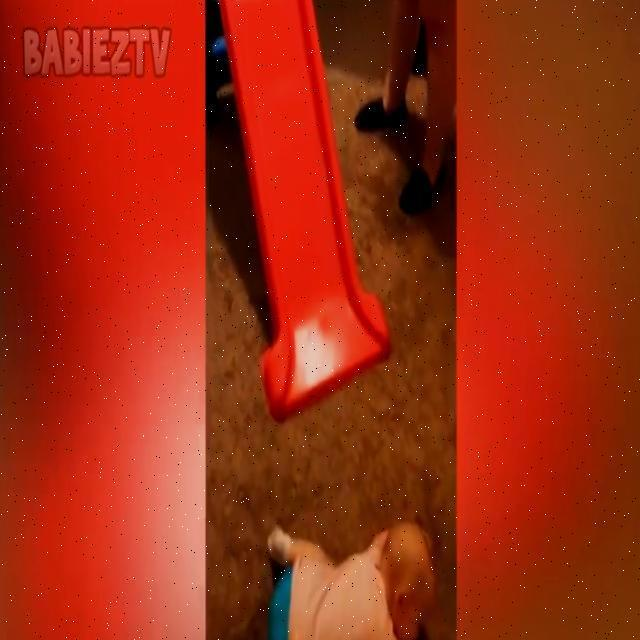child: (265, 514, 435, 640)
